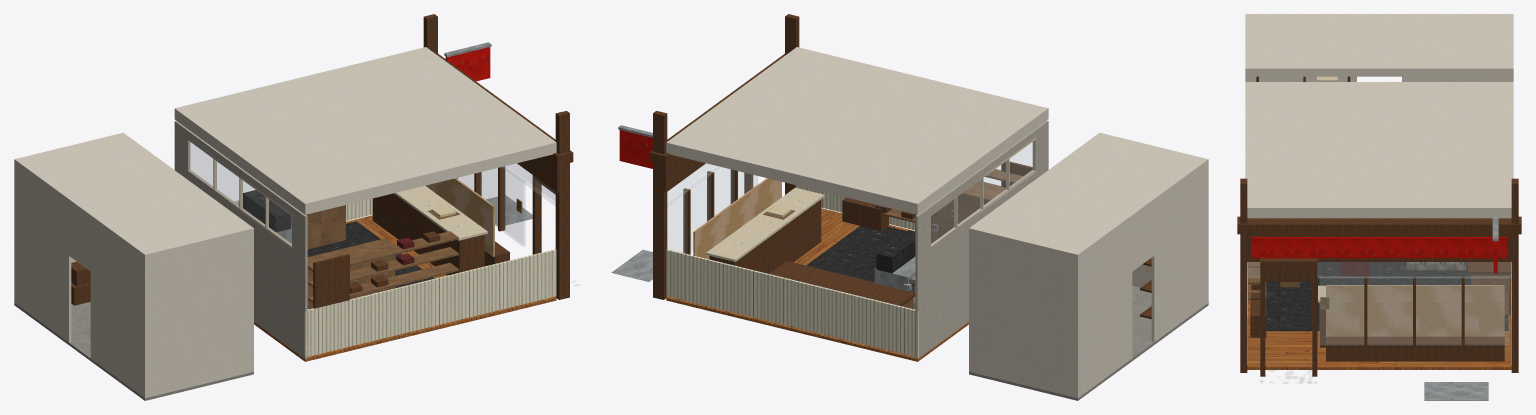
The model's file is shop_shoe_rebuilding.gltf.
3 views of the same model, side by side, from view 1: azimuth 30°, elevation 25°; view 2: azimuth 150°, elevation 25°; view 3: azimuth 270°, elevation 25° (orthographic). The views are drawn at different scales.
Parts seen in each view (by area): view 1: F01_OWN_SHOP_SHOE_REBUILDING_retail_shop_shoe_rebuilding_pla (×2), F01_OWN_SHOP_SHOE_REBUILDING_retail_shop_shoe_rebuilding_woo, F01_OWN_SHOP_SHOE_REBUILDING_retail_shop_shoe_rebuilding_wai, F01_OWN_SHOP_SHOE_REBUILDING_retail_shop_shoe_rebuilding_gla, F01_OWN_SHOP_SHOE_REBUILDING_retail_shop_shoe_rebuilding_tim, F01_OWN_SHOP_SHOE_REBUILDING_retail_shop_shoe_rebuilding_soo, F01_OWN_SHOP_SHOE_REBUILDING_retail_shop_shoe_rebuilding_flo, F01_OWN_SHOP_SHOE_REBUILDING_retail_shop_shoe_rebuilding_ply, F01_OWN_SHOP_SHOE_REBUILDING_retail_shop_shoe_rebuilding_cou, F01_OWN_SHOP_SHOE_REBUILDING_retail_shop_shoe_rebuilding_con, F01_OWN_SHOP_SHOE_REBUILDING_retail_shop_shoe_rebuilding_met, F01_OWN_SHOP_SHOE_REBUILDING_retail_shop_shoe_rebuilding_lac (+1 smaller); view 2: F01_OWN_SHOP_SHOE_REBUILDING_retail_shop_shoe_rebuilding_pla (×2), F01_OWN_SHOP_SHOE_REBUILDING_retail_shop_shoe_rebuilding_woo, F01_OWN_SHOP_SHOE_REBUILDING_retail_shop_shoe_rebuilding_wai, F01_OWN_SHOP_SHOE_REBUILDING_retail_shop_shoe_rebuilding_gla, F01_OWN_SHOP_SHOE_REBUILDING_retail_shop_shoe_rebuilding_soo, F01_OWN_SHOP_SHOE_REBUILDING_retail_shop_shoe_rebuilding_flo, F01_OWN_SHOP_SHOE_REBUILDING_retail_shop_shoe_rebuilding_ply, F01_OWN_SHOP_SHOE_REBUILDING_retail_shop_shoe_rebuilding_cou, F01_OWN_SHOP_SHOE_REBUILDING_retail_shop_shoe_rebuilding_tim, F01_OWN_SHOP_SHOE_REBUILDING_retail_shop_shoe_rebuilding_con, F01_OWN_SHOP_SHOE_REBUILDING_retail_shop_shoe_rebuilding_met, F01_OWN_SHOP_SHOE_REBUILDING_retail_shop_shoe_rebuilding_lac (+1 smaller); view 3: F01_OWN_SHOP_SHOE_REBUILDING_retail_shop_shoe_rebuilding_pla, F01_OWN_SHOP_SHOE_REBUILDING_retail_shop_shoe_rebuilding_woo, F01_OWN_SHOP_SHOE_REBUILDING_retail_shop_shoe_rebuilding_gla, F01_OWN_SHOP_SHOE_REBUILDING_retail_shop_shoe_rebuilding_ply, F01_OWN_SHOP_SHOE_REBUILDING_retail_shop_shoe_rebuilding_lac, F01_OWN_SHOP_SHOE_REBUILDING_retail_shop_shoe_rebuilding_soo, F01_OWN_SHOP_SHOE_REBUILDING_retail_shop_shoe_rebuilding_flo, F01_OWN_SHOP_SHOE_REBUILDING_retail_shop_shoe_rebuilding_met, F01_OWN_SHOP_SHOE_REBUILDING_retail_shop_shoe_rebuilding_tim, F01_OWN_SHOP_SHOE_REBUILDING_retail_shop_shoe_rebuilding_cas, F01_OWN_SHOP_SHOE_REBUILDING_retail_shop_shoe_rebuilding_vin.
Boxes of the visible parts, x1,y1,x2,y2 form: F01_OWN_SHOP_SHOE_REBUILDING_retail_shop_shoe_rebuilding_pla (×2): (14, 47, 556, 398); F01_OWN_SHOP_SHOE_REBUILDING_retail_shop_shoe_rebuilding_woo: (71, 14, 573, 308); F01_OWN_SHOP_SHOE_REBUILDING_retail_shop_shoe_rebuilding_wai: (234, 198, 556, 357); F01_OWN_SHOP_SHOE_REBUILDING_retail_shop_shoe_rebuilding_gla: (188, 141, 555, 246); F01_OWN_SHOP_SHOE_REBUILDING_retail_shop_shoe_rebuilding_tim: (291, 205, 459, 309); F01_OWN_SHOP_SHOE_REBUILDING_retail_shop_shoe_rebuilding_soo: (243, 190, 434, 288); F01_OWN_SHOP_SHOE_REBUILDING_retail_shop_shoe_rebuilding_flo: (254, 215, 556, 361); F01_OWN_SHOP_SHOE_REBUILDING_retail_shop_shoe_rebuilding_ply: (425, 178, 494, 256); F01_OWN_SHOP_SHOE_REBUILDING_retail_shop_shoe_rebuilding_cou: (394, 186, 487, 240); F01_OWN_SHOP_SHOE_REBUILDING_retail_shop_shoe_rebuilding_con: (14, 302, 253, 400); F01_OWN_SHOP_SHOE_REBUILDING_retail_shop_shoe_rebuilding_met: (276, 42, 532, 243); F01_OWN_SHOP_SHOE_REBUILDING_retail_shop_shoe_rebuilding_lac: (445, 47, 490, 81); F01_OWN_SHOP_SHOE_REBUILDING_retail_shop_shoe_rebuilding_pla (×2): (666, 47, 1208, 398); F01_OWN_SHOP_SHOE_REBUILDING_retail_shop_shoe_rebuilding_woo: (650, 14, 1151, 319); F01_OWN_SHOP_SHOE_REBUILDING_retail_shop_shoe_rebuilding_wai: (666, 185, 918, 357); F01_OWN_SHOP_SHOE_REBUILDING_retail_shop_shoe_rebuilding_gla: (667, 141, 1034, 252); F01_OWN_SHOP_SHOE_REBUILDING_retail_shop_shoe_rebuilding_soo: (806, 226, 915, 281); F01_OWN_SHOP_SHOE_REBUILDING_retail_shop_shoe_rebuilding_flo: (666, 208, 968, 361); F01_OWN_SHOP_SHOE_REBUILDING_retail_shop_shoe_rebuilding_ply: (693, 178, 781, 259); F01_OWN_SHOP_SHOE_REBUILDING_retail_shop_shoe_rebuilding_cou: (706, 187, 824, 261); F01_OWN_SHOP_SHOE_REBUILDING_retail_shop_shoe_rebuilding_tim: (763, 169, 1022, 308); F01_OWN_SHOP_SHOE_REBUILDING_retail_shop_shoe_rebuilding_con: (969, 285, 1208, 400); F01_OWN_SHOP_SHOE_REBUILDING_retail_shop_shoe_rebuilding_met: (611, 125, 915, 291); F01_OWN_SHOP_SHOE_REBUILDING_retail_shop_shoe_rebuilding_lac: (619, 130, 652, 168); F01_OWN_SHOP_SHOE_REBUILDING_retail_shop_shoe_rebuilding_pla: (1245, 14, 1513, 218); F01_OWN_SHOP_SHOE_REBUILDING_retail_shop_shoe_rebuilding_woo: (1237, 76, 1521, 376); F01_OWN_SHOP_SHOE_REBUILDING_retail_shop_shoe_rebuilding_gla: (1247, 262, 1511, 344); F01_OWN_SHOP_SHOE_REBUILDING_retail_shop_shoe_rebuilding_ply: (1326, 285, 1504, 336); F01_OWN_SHOP_SHOE_REBUILDING_retail_shop_shoe_rebuilding_lac: (1251, 237, 1507, 273); F01_OWN_SHOP_SHOE_REBUILDING_retail_shop_shoe_rebuilding_soo: (1266, 262, 1508, 330); F01_OWN_SHOP_SHOE_REBUILDING_retail_shop_shoe_rebuilding_flo: (1247, 300, 1511, 369); F01_OWN_SHOP_SHOE_REBUILDING_retail_shop_shoe_rebuilding_met: (1424, 217, 1498, 400); F01_OWN_SHOP_SHOE_REBUILDING_retail_shop_shoe_rebuilding_tim: (1248, 262, 1510, 314); F01_OWN_SHOP_SHOE_REBUILDING_retail_shop_shoe_rebuilding_cas: (1406, 262, 1466, 270); F01_OWN_SHOP_SHOE_REBUILDING_retail_shop_shoe_rebuilding_vin: (1340, 262, 1369, 275).
Bounding box in the file's own units: 11.42 × 4.25 × 5.72.
Materials: 21 (20 with a texture image).
